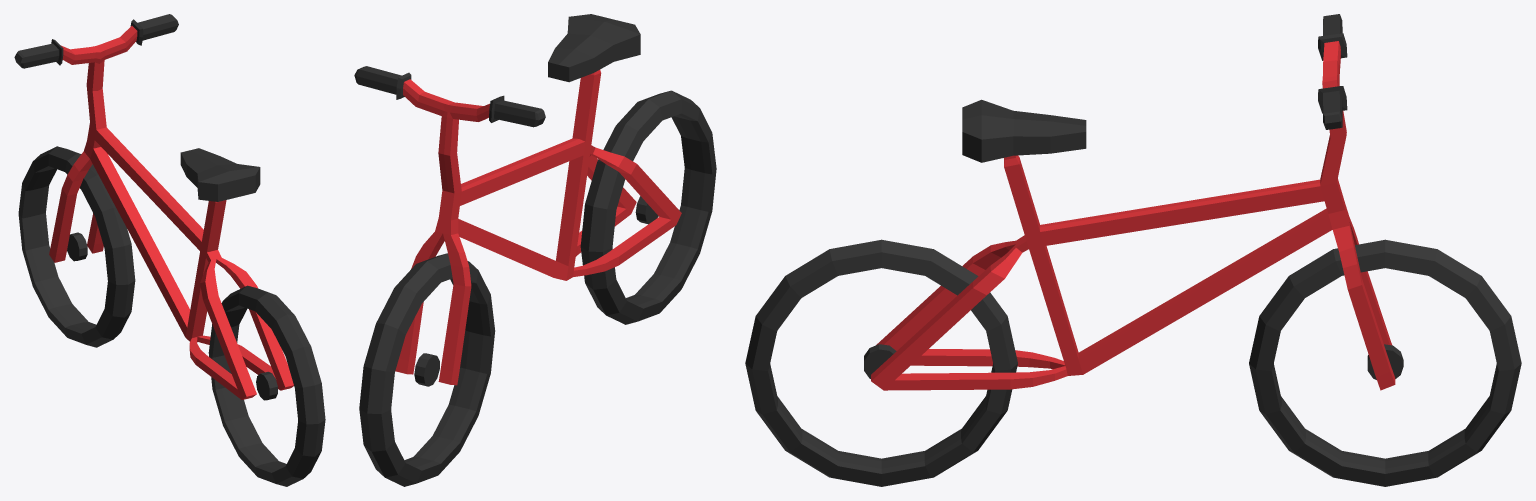
File: SquareFrameBicycle.glb
The picture shows the model from 3 angles, left to right: view 1: azimuth 30°, elevation 25°; view 2: azimuth 150°, elevation 25°; view 3: azimuth 270°, elevation 25°; orthographic projection. The views are drawn at different scales.
Visible parts, largest first — view 1: Bicycle; view 2: Bicycle; view 3: Bicycle.
Part boxes in pixels (x1,y1,x2,y2): Bicycle: [14, 14, 325, 486]; Bicycle: [354, 14, 716, 486]; Bicycle: [745, 14, 1521, 486].
Size of the model in its own units: 0.5312 by 1.03 by 1.7.
